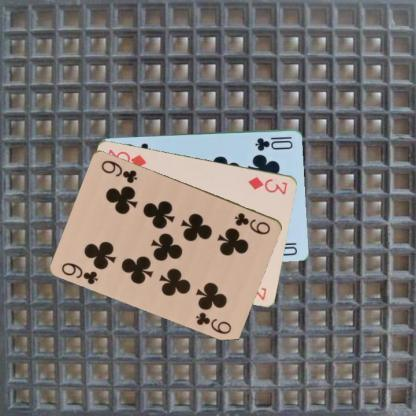10c: (253, 133, 294, 152)
3d: (245, 174, 289, 196)
9c: (59, 259, 100, 286), (232, 210, 272, 236)
